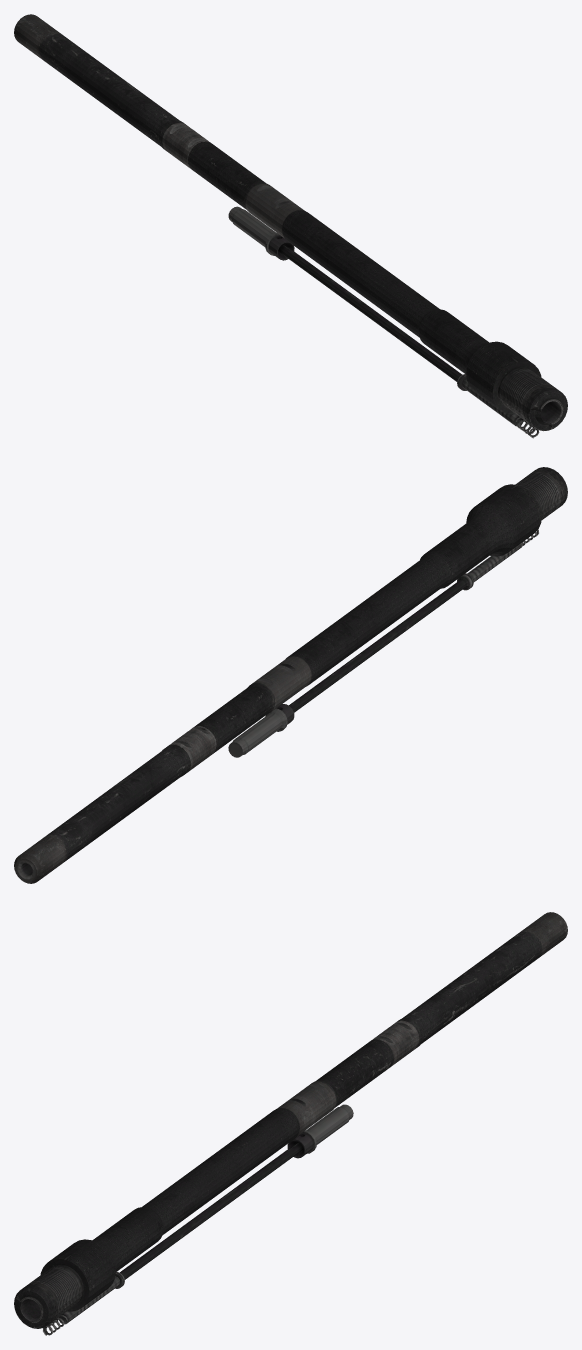
The picture shows the model from 3 angles, top to bottom: view 1: azimuth 30°, elevation 25°; view 2: azimuth 150°, elevation 25°; view 3: azimuth 330°, elevation 25°; orthographic projection.
Visible parts, largest first — view 1: TW_5c471cb32e221602b177afaa_PZ_Import; view 2: TW_5c471cb32e221602b177afaa_PZ_Import; view 3: TW_5c471cb32e221602b177afaa_PZ_Import.
Part boxes in pixels (x1,y1,x2,y2): TW_5c471cb32e221602b177afaa_PZ_Import: (14, 14, 567, 438); TW_5c471cb32e221602b177afaa_PZ_Import: (14, 467, 567, 883); TW_5c471cb32e221602b177afaa_PZ_Import: (14, 912, 567, 1335).
Size of the model in its own units: 0.0178 by 0.3276 by 0.024.
1 material, 1 textured.
